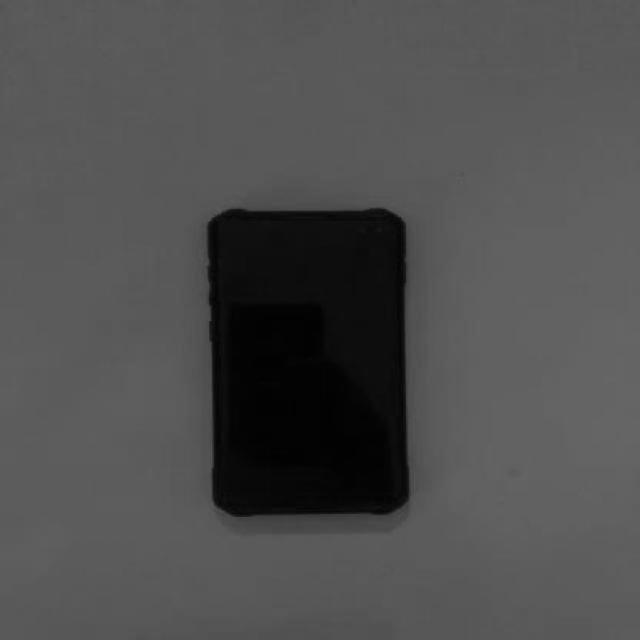fake: (212, 204, 414, 516)
